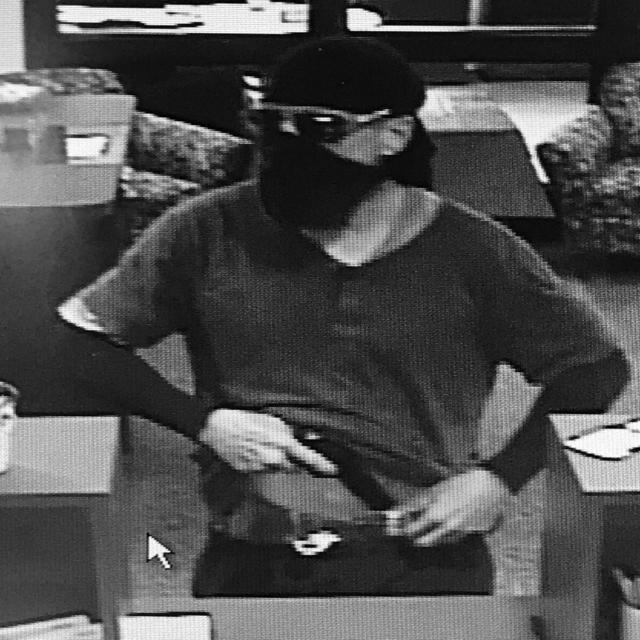gun: (252, 437, 401, 513)
